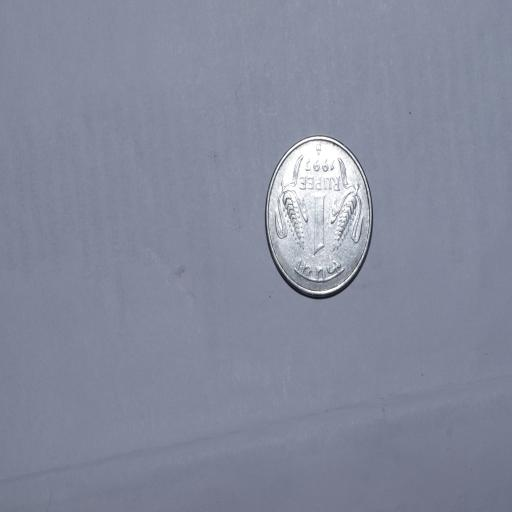rupee1: (258, 133, 371, 302)
